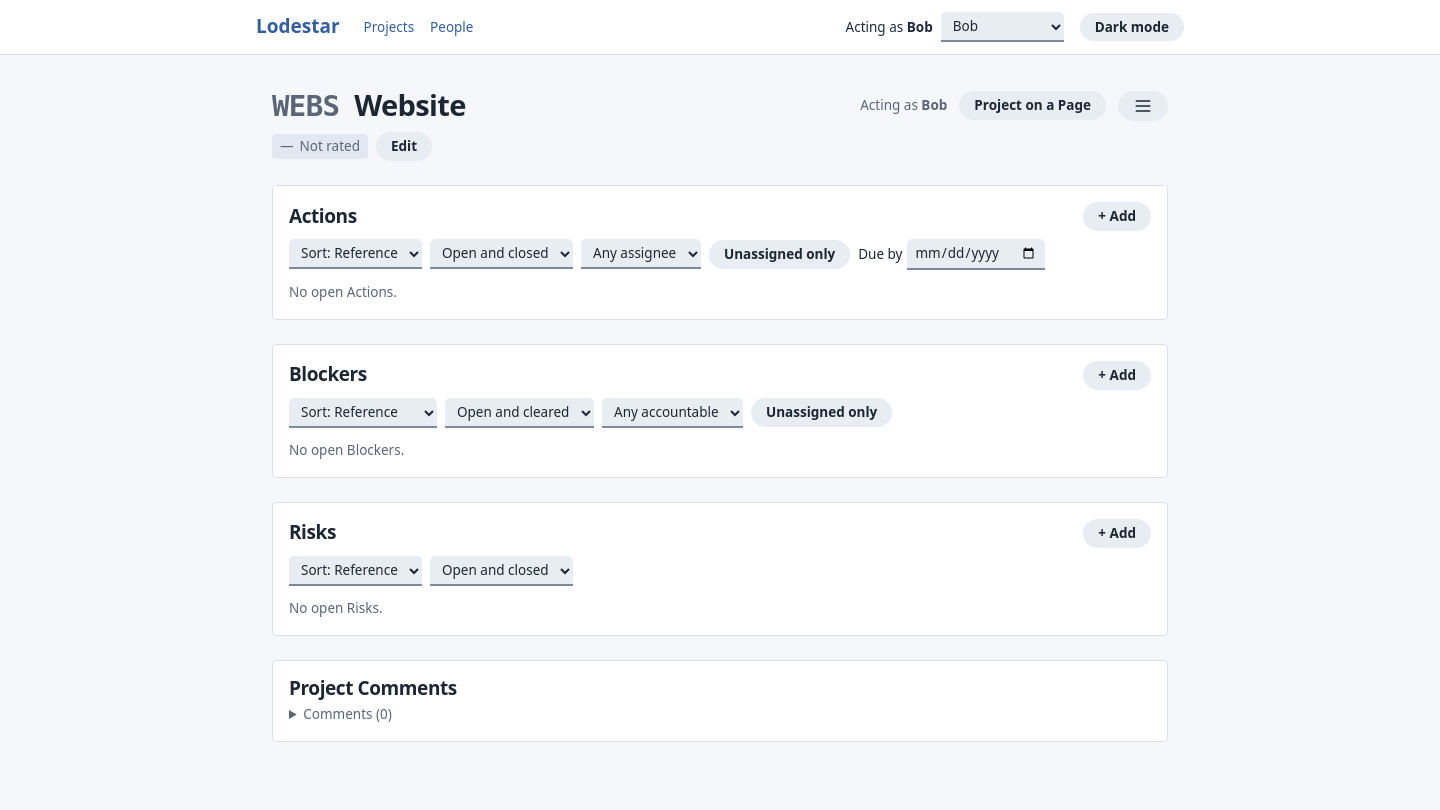
it: Meetings in the Project menu (#84) › tells a Member that only a Project Leader can start one
Step 1. Click the button named "Project menu" → (1143, 106), box [1118,91,1168,121]
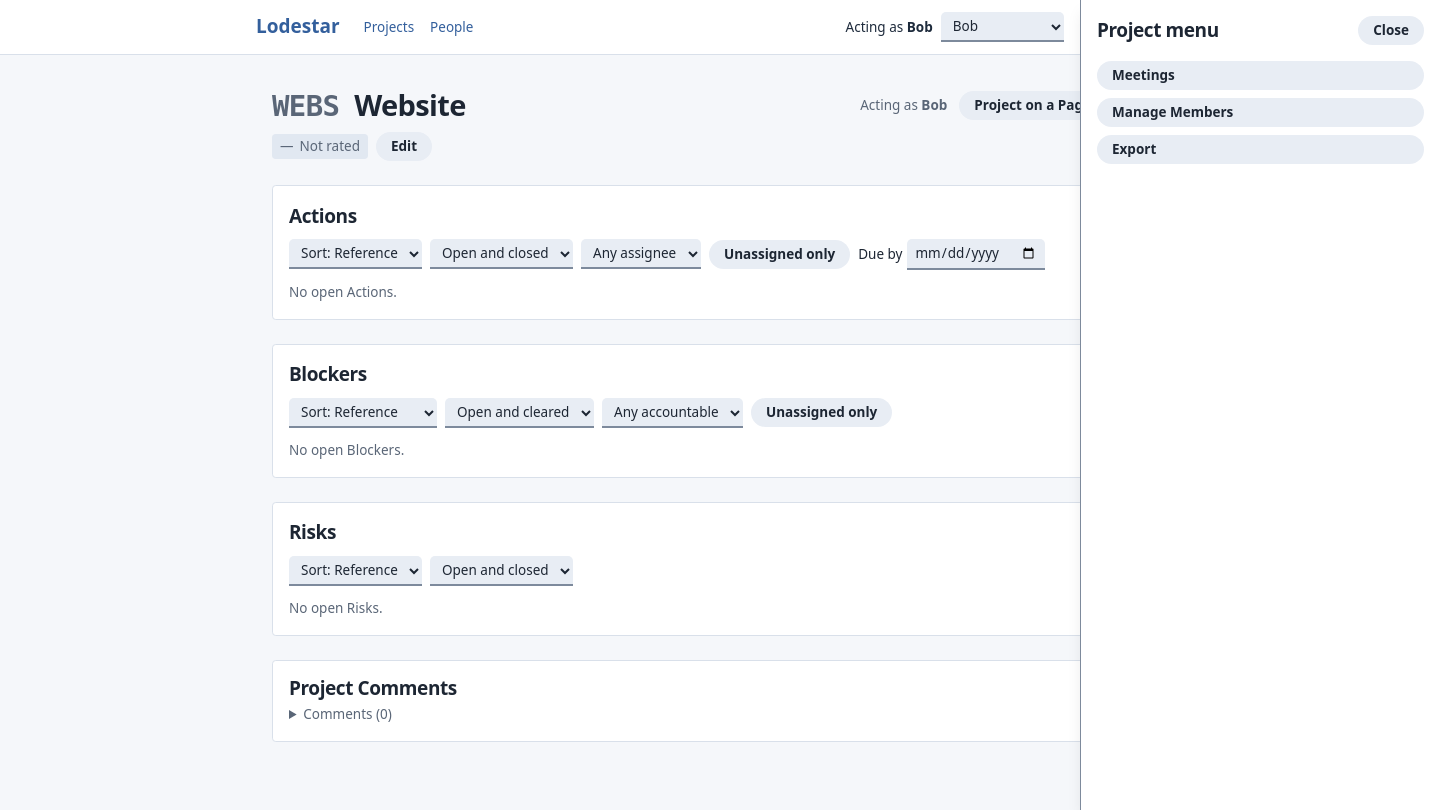
Step 2. Click the button "Meetings" → (1143, 75), box [1097,61,1424,90]
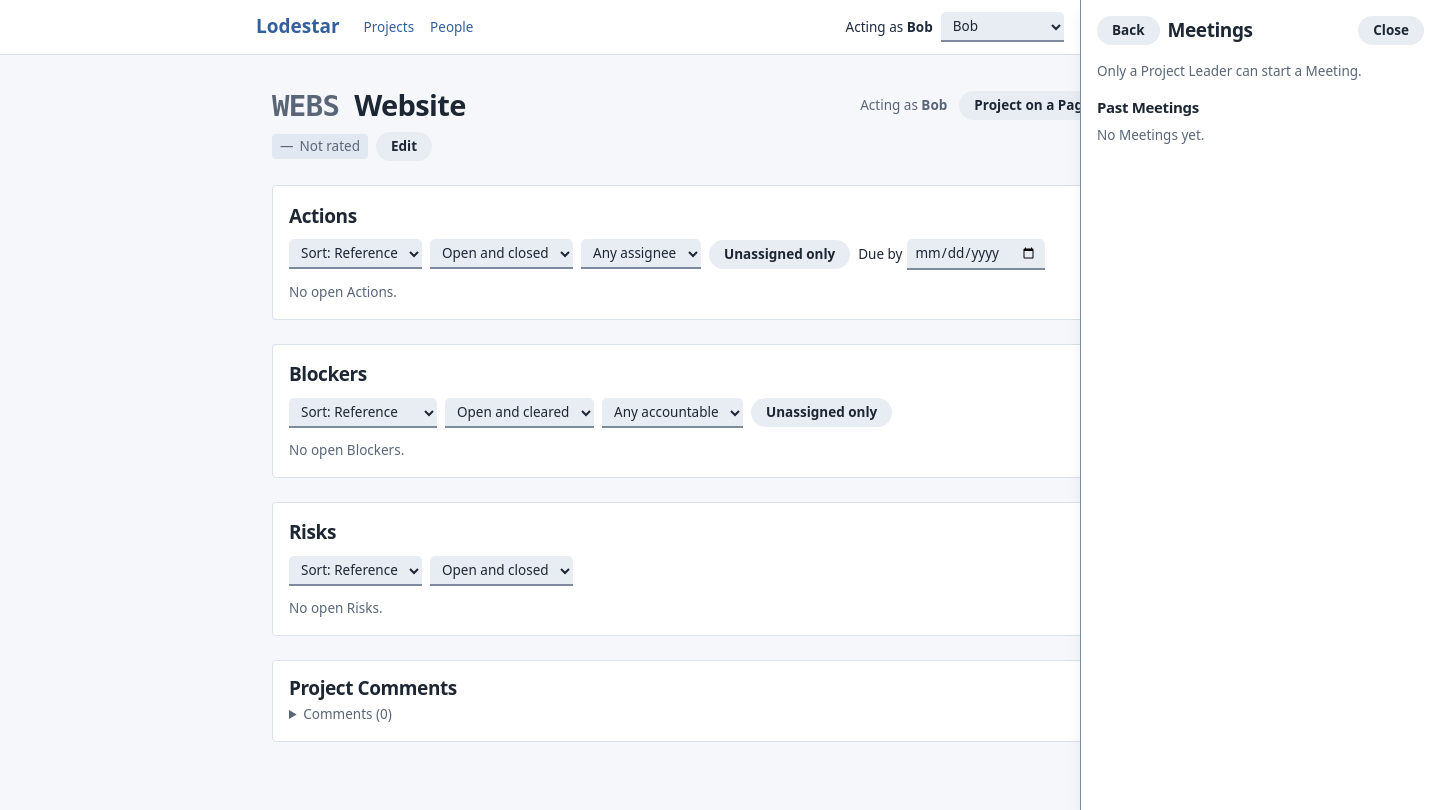
Expected: the text "Only a Project Leader can start a Meeting." is shown, [1097,62,1362,80]
